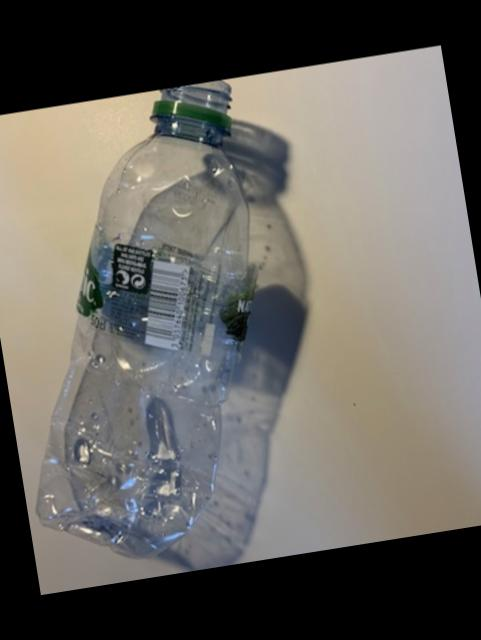plastic: (34, 82, 302, 572)
